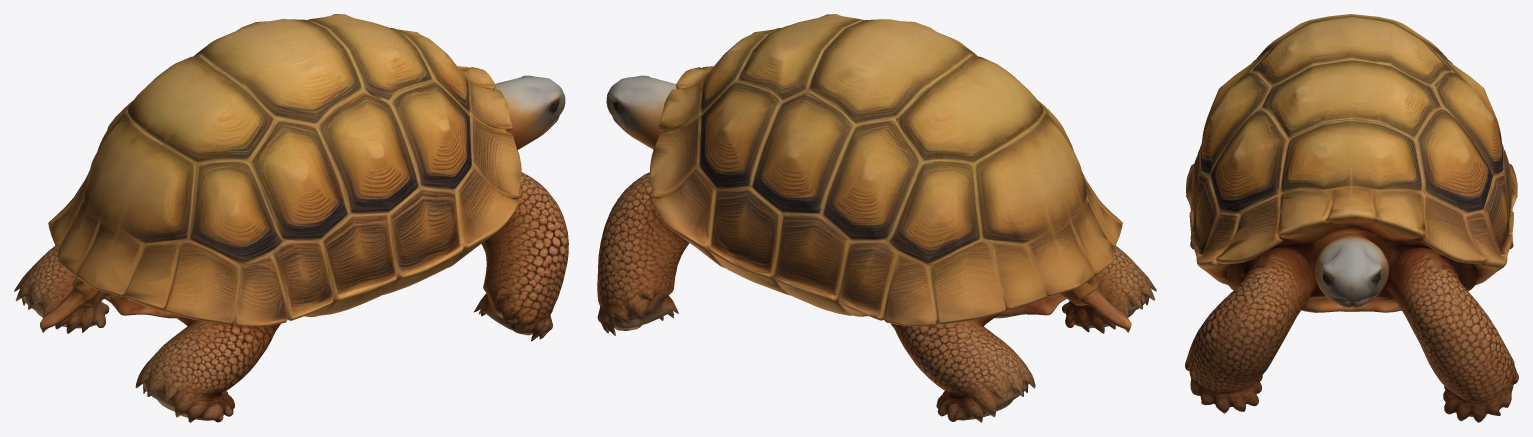
Rendered from gopher-tortoise.glb.
3 renders of one model, left to right at view 1: azimuth 30°, elevation 25°; view 2: azimuth 150°, elevation 25°; view 3: azimuth 270°, elevation 25°, orthographic. The views are drawn at different scales.
Parts seen in each view (by area): view 1: material; view 2: material; view 3: material.
Boxes of the visible parts, x1,y1,x2,y2 form: material: [14, 14, 568, 422]; material: [597, 14, 1156, 422]; material: [1185, 14, 1518, 422].
Bounding box in the file's own units: 1.14 × 0.626 × 0.651.
1 material, 1 textured.
